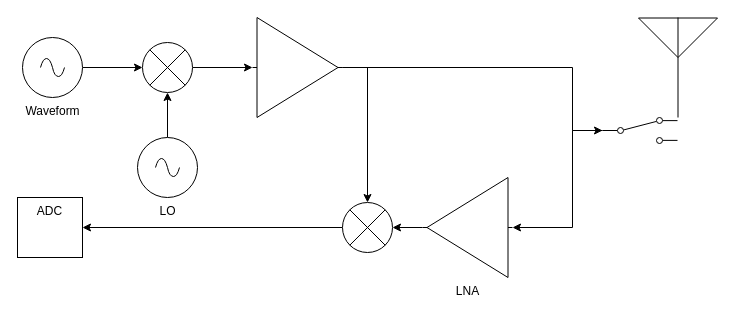
Some shapes in this 735 by 316 pixel diagram are drawn without their labels. The box of each missing label's shape, as (x1, y1, x2, y2) in pixels:
Antenna: (638, 16, 718, 118)
PA: (252, 16, 342, 118)
